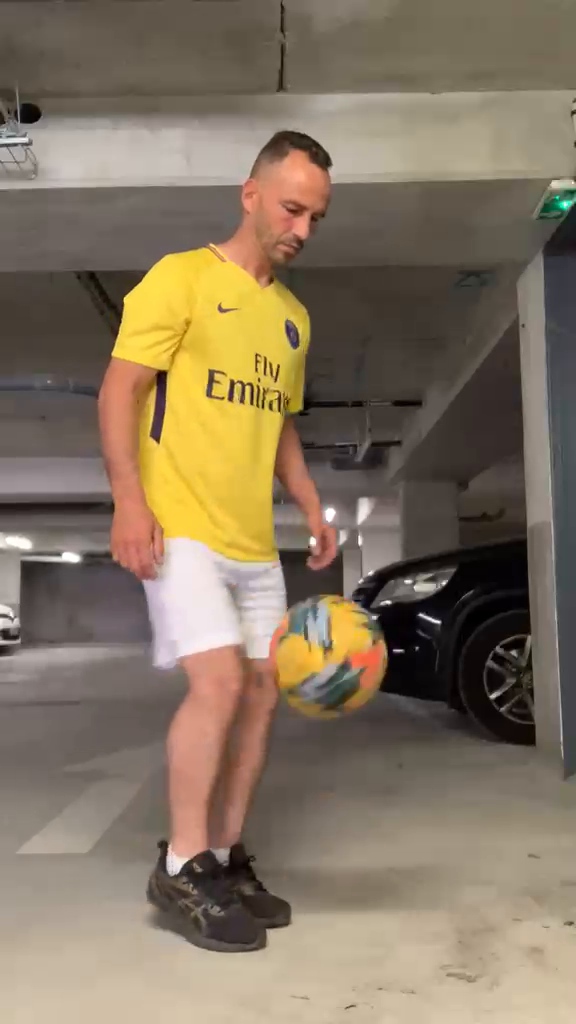ball: (265, 594, 390, 719)
